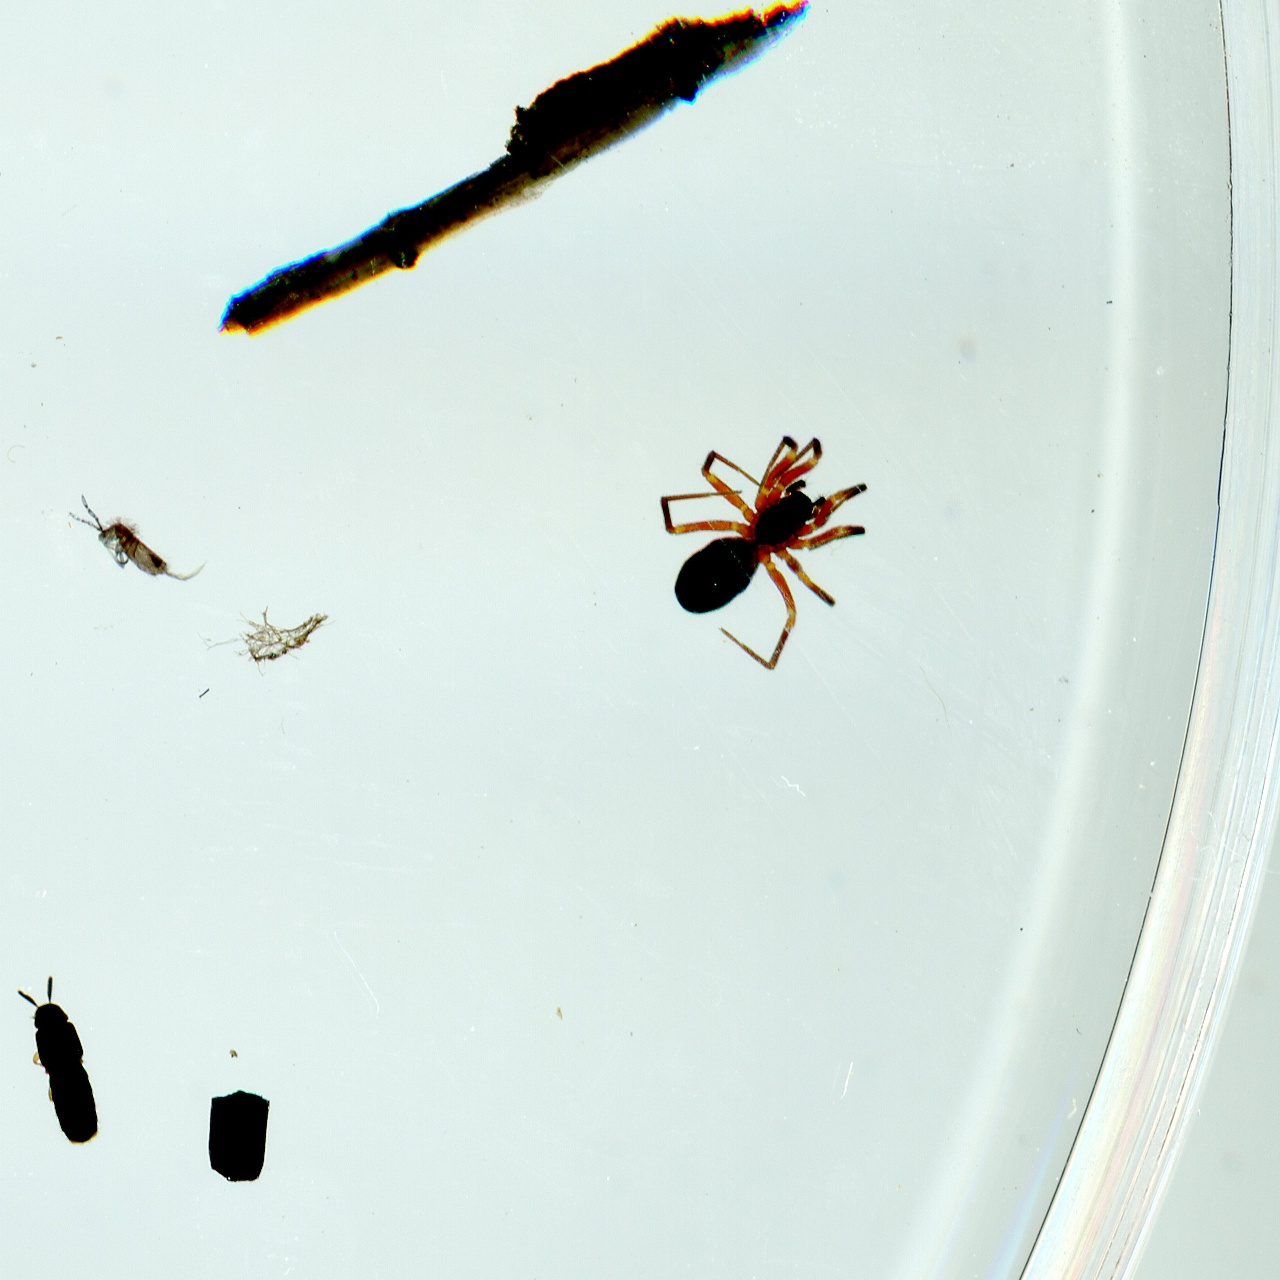arthropod: (652, 423, 880, 676), (9, 969, 105, 1148), (59, 488, 213, 589)
